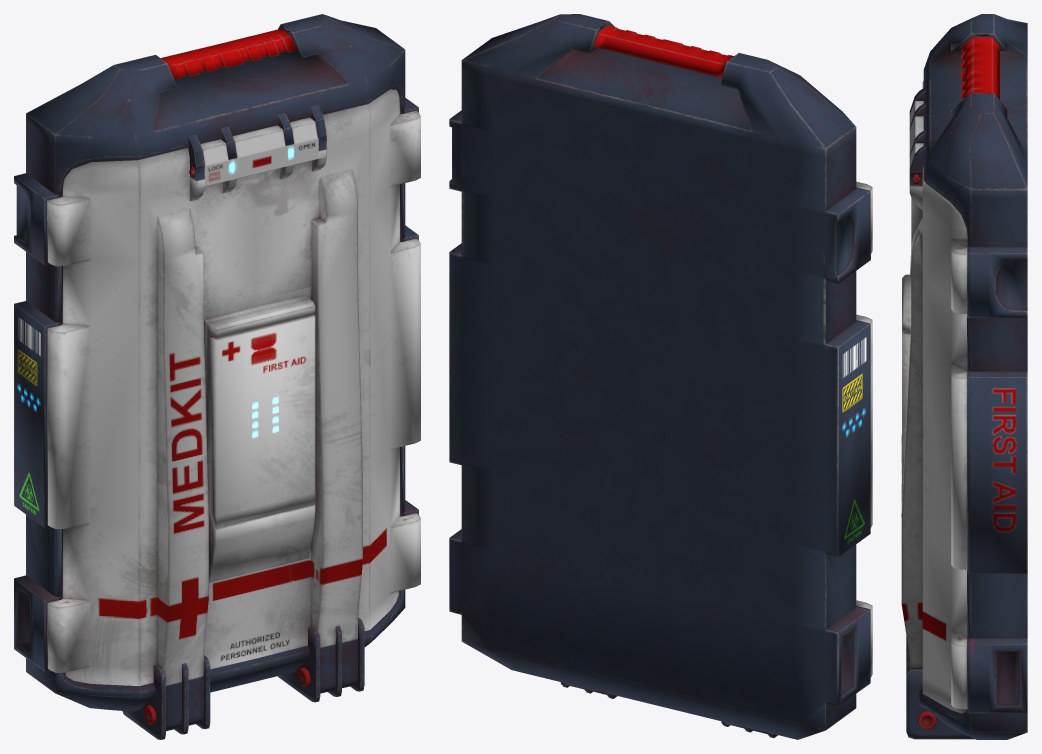
File: World_Medkit.fbx
The picture shows the model from 3 angles, left to right: view 1: azimuth 30°, elevation 25°; view 2: azimuth 150°, elevation 25°; view 3: azimuth 270°, elevation 25°; orthographic projection. The views are drawn at different scales.
Parts seen in each view (by area): view 1: World_Medkit; view 2: World_Medkit; view 3: World_Medkit.
Boxes of the visible parts, left/top/right/bottom form: World_Medkit: left=14, top=14, right=420, bottom=739; World_Medkit: left=449, top=14, right=872, bottom=739; World_Medkit: left=901, top=14, right=1027, bottom=739.
Size of the model in its own units: 0.2547 by 0.42 by 0.0766.
